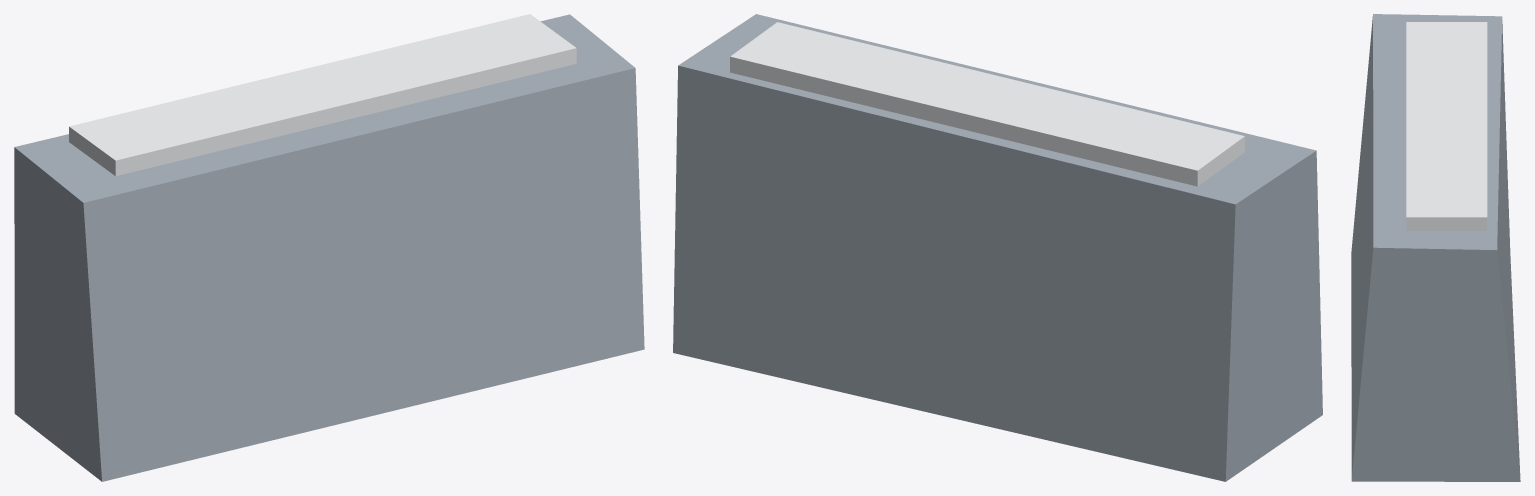
The model's file is cloudloft_cliff_slab.glb.
3 renders of one model, left to right at view 1: azimuth 30°, elevation 25°; view 2: azimuth 150°, elevation 25°; view 3: azimuth 270°, elevation 25°, orthographic. The views are drawn at different scales.
Parts seen in each view (by area): view 1: cloudloft_cliff_slab; view 2: cloudloft_cliff_slab; view 3: cloudloft_cliff_slab.
Part boxes in pixels (x1=…): cloudloft_cliff_slab: x1=14, y1=14, x2=644, y2=481; cloudloft_cliff_slab: x1=673, y1=14, x2=1322, y2=481; cloudloft_cliff_slab: x1=1351, y1=14, x2=1520, y2=481.
Size of the model in its own units: 2.42 by 1.19 by 0.7326.
